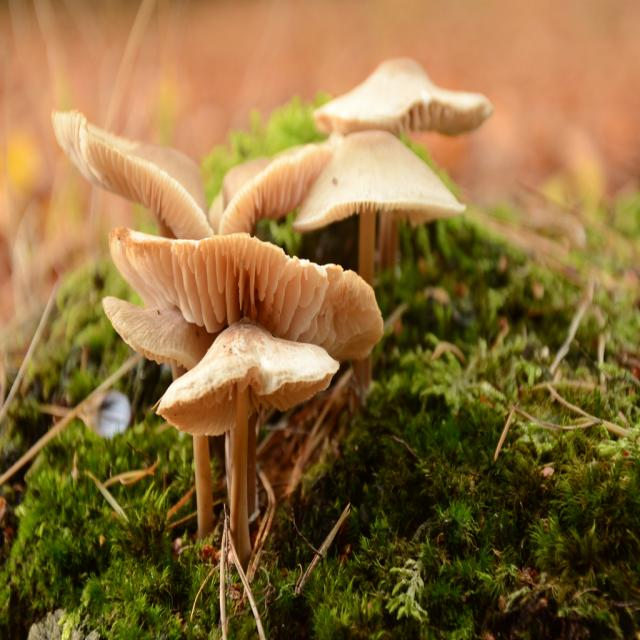mushroom: (50, 53, 498, 566)
